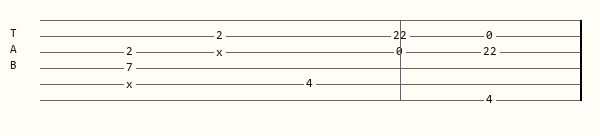0: (396, 46, 407, 58), (486, 30, 497, 42)
2: (126, 46, 137, 58), (216, 30, 227, 42)
22: (393, 30, 411, 42), (483, 46, 501, 58)
4: (306, 78, 317, 90), (486, 94, 497, 106)
7: (126, 62, 137, 74)
x: (126, 79, 137, 89), (216, 47, 227, 57)
